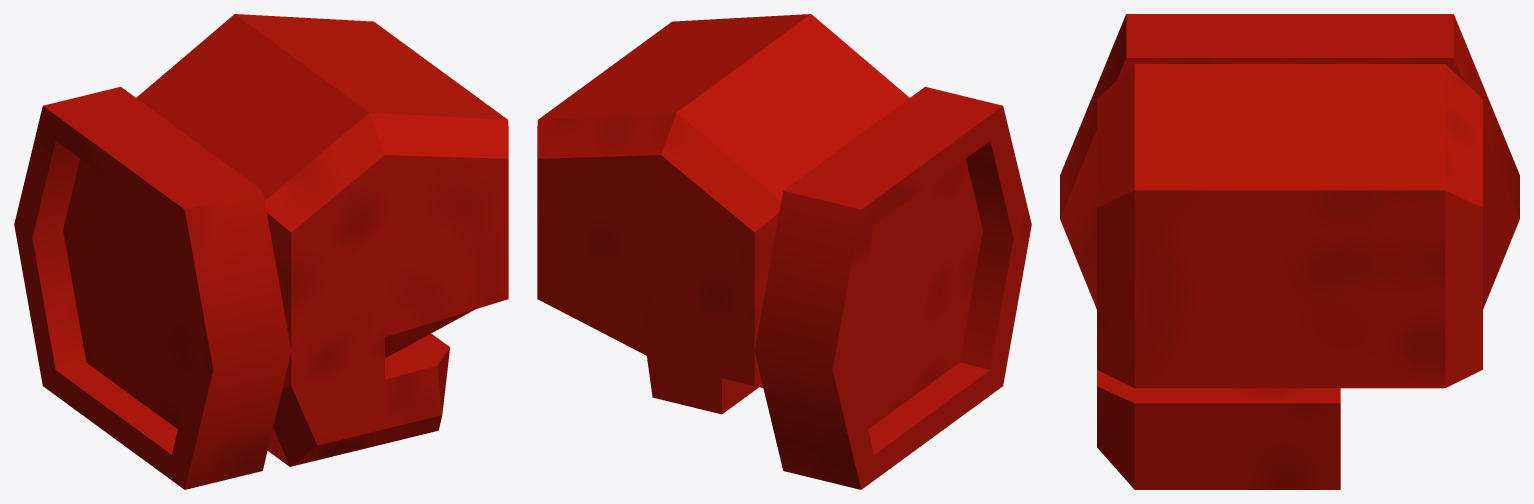
Rendered from Punch_Hand_Mesh.fbx.
3 renders of one model, left to right at view 1: azimuth 30°, elevation 25°; view 2: azimuth 150°, elevation 25°; view 3: azimuth 270°, elevation 25°, orthographic. The views are drawn at different scales.
Parts seen in each view (by area): view 1: pCube6; view 2: pCube6; view 3: pCube6.
Boxes of the visible parts, box(x1,y1,x2,y2) form: pCube6: box(14, 14, 508, 489); pCube6: box(537, 14, 1031, 489); pCube6: box(1060, 14, 1519, 489).
Size of the model in its own units: 18.78 by 18.37 by 19.79.
1 material, 1 textured.
